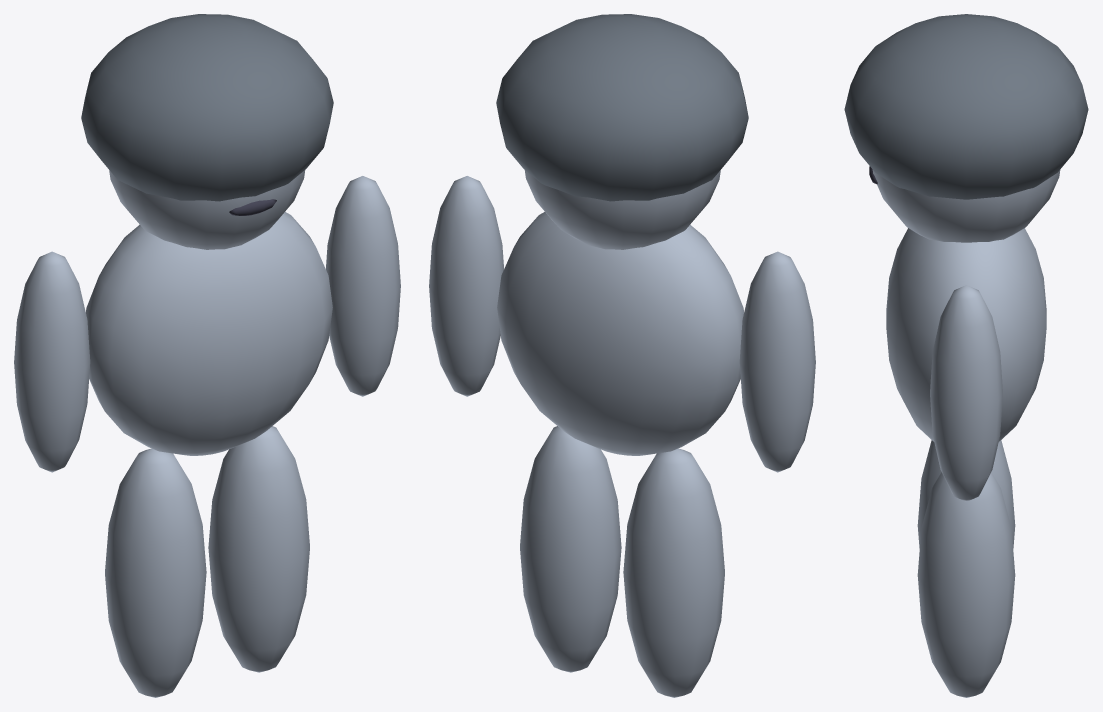
The model's file is knight.glb.
3 views of the same model, side by side, from view 1: azimuth 30°, elevation 25°; view 2: azimuth 150°, elevation 25°; view 3: azimuth 270°, elevation 25° (orthographic).
Parts seen in each view (by area): view 1: Torso, Helmet, LegLeft, LegRight, ArmLeft, ArmRight, Head; view 2: Torso, Helmet, LegLeft, LegRight, ArmLeft, ArmRight, Head; view 3: Helmet, Torso, LegRight, ArmRight, Head, LegLeft.
Boxes of the visible parts, x1=… form: Torso: x1=86, y1=212, x2=332, y2=455; Helmet: x1=81, y1=14, x2=333, y2=201; LegLeft: x1=105, y1=448, x2=206, y2=697; LegRight: x1=208, y1=426, x2=309, y2=672; ArmLeft: x1=14, y1=251, x2=90, y2=472; ArmRight: x1=326, y1=176, x2=400, y2=396; Head: x1=109, y1=170, x2=305, y2=249; Torso: x1=497, y1=212, x2=743, y2=455; Helmet: x1=496, y1=14, x2=748, y2=201; LegLeft: x1=623, y1=448, x2=724, y2=697; LegRight: x1=520, y1=426, x2=621, y2=672; ArmLeft: x1=739, y1=251, x2=815, y2=472; ArmRight: x1=429, y1=176, x2=503, y2=396; Head: x1=524, y1=170, x2=720, y2=249; Helmet: x1=844, y1=14, x2=1088, y2=199; Torso: x1=886, y1=228, x2=1046, y2=441; LegRight: x1=917, y1=472, x2=1015, y2=697; ArmRight: x1=930, y1=285, x2=1002, y2=501; Head: x1=872, y1=170, x2=1060, y2=242; LegLeft: x1=917, y1=440, x2=1015, y2=547.
Size of the model in its own units: 1.07 by 1.78 by 0.612.
